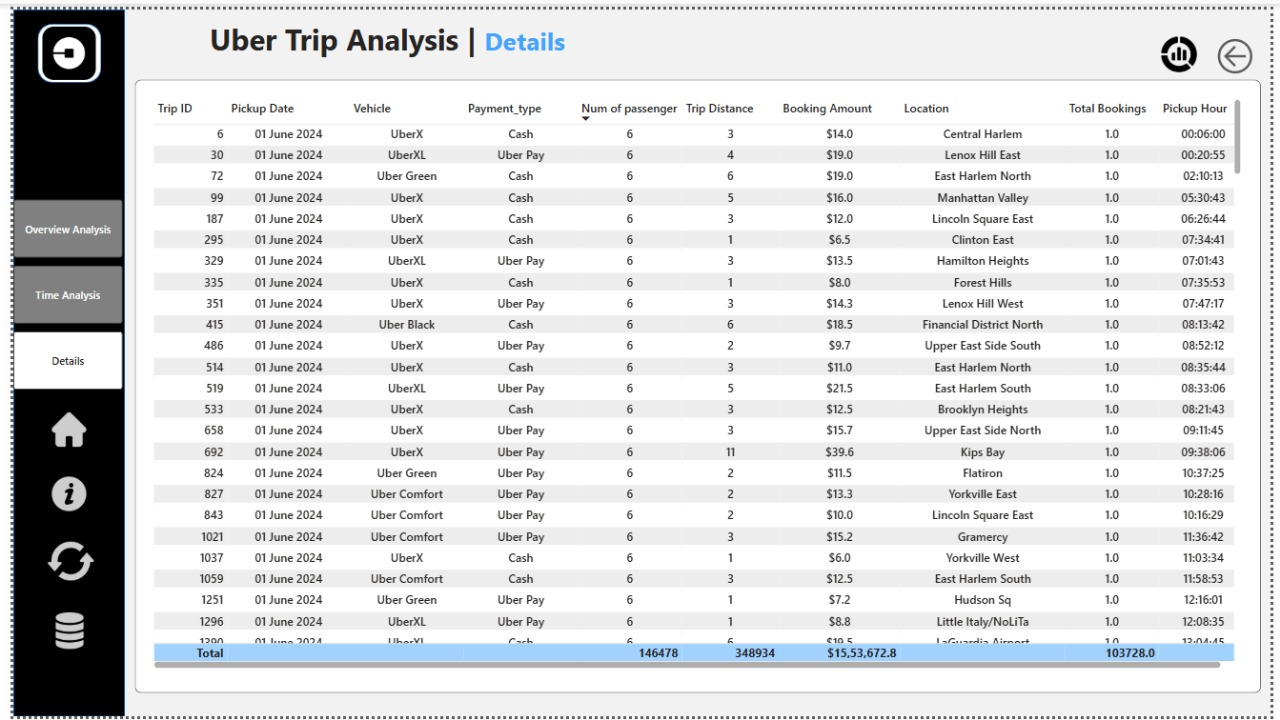

The page's visual inventory and layout, read from the dashboard file:
{"tool":"powerbi","page":{"name":"Details","canvas":[1600,900],"ordinal":2},"visuals":[{"type":"shape","box":[153.8,89.1,1433,781.3],"z":0},{"type":"shape","box":[0,0,141.7,900],"z":1000},{"type":"textbox","box":[139.7,8.1,672,81],"z":2000},{"type":"tableEx","fields":{"Values":["Trip Details.Trip ID","Trip Details.Pickup Date","Trip Details.Vehicle","Trip Details.Payment_type","Sum(Trip Details.passenger_count)","Trip Details.Total Trip Distance Measure","Trip Details.Total Booking Amount","Location Table.Location","Trip Details.Total Bookings","Trip Details.Pickup Hour(HH MM SS)"]},"box":[172,109.3,1394.6,734.7],"z":3000},{"type":"actionButton","box":[1526.1,28.3,56.7,60.7],"z":4000},{"type":"image","box":[1455.7,28.9,55.7,55.7],"z":5000},{"type":"pageNavigator","box":[0,242.9,139.7,242.9],"z":6000},{"type":"shape","box":[30.4,18.2,81,74.9],"z":6500},{"type":"image","box":[30.4,18.2,81,72.9],"z":7000},{"type":"image","box":[38.5,508,64.8,54.6],"z":7001},{"type":"image","box":[38.5,589,64.8,54.6],"z":7002},{"type":"image","box":[36.4,667.9,72.9,68.8],"z":7003},{"type":"image","box":[30.4,763.1,81,56.7],"z":7004}]}

Visuals, with their boxes on the page's 1600x900 design canvas (x1, y1, x2, y2). These are canvas units, not pixel positions in the 1280x720 screenshot, which may show the page scaled, cropped or inside an application window:
shape: 154:89:1587:870
shape: 0:0:142:900
textbox: 140:8:812:89
tableEx - Trip Details.Trip ID x Trip Details.Pickup Date: 172:109:1567:844
actionButton: 1526:28:1583:89
image: 1456:29:1511:85
pageNavigator: 0:243:140:486
shape: 30:18:111:93
image: 30:18:111:91
image: 38:508:103:563
image: 38:589:103:644
image: 36:668:109:737
image: 30:763:111:820
